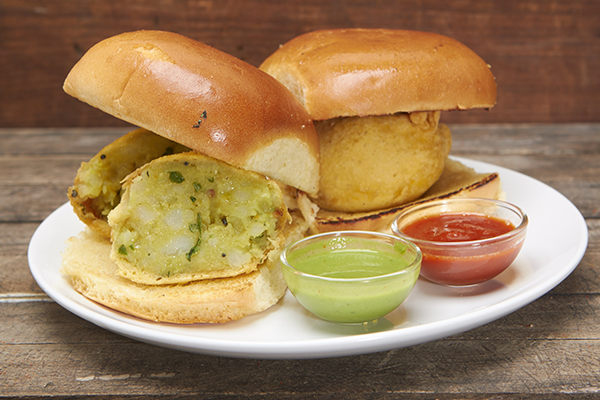vada pav: (100, 56, 242, 319), (335, 28, 395, 227)
